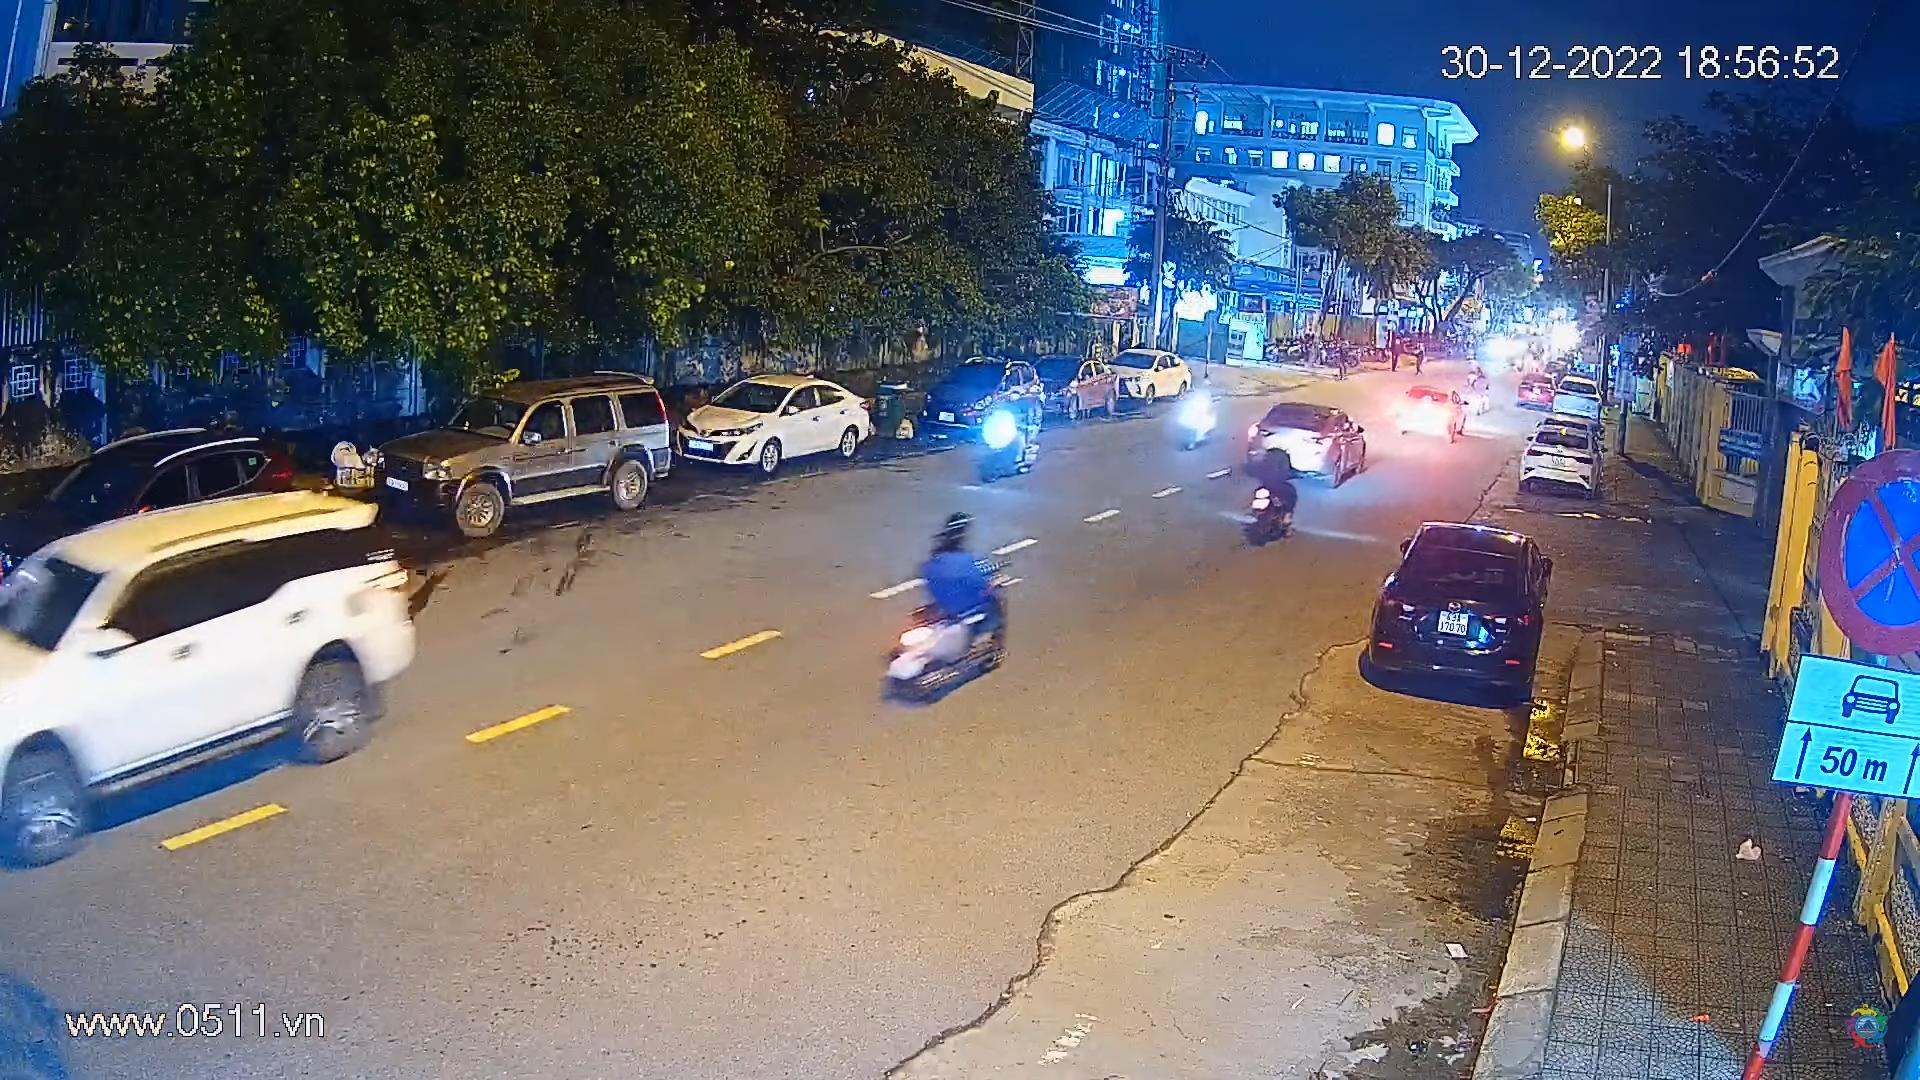car: (0, 475, 415, 878), (0, 427, 298, 603), (372, 375, 675, 546), (1358, 508, 1577, 694), (670, 369, 876, 479), (922, 357, 1046, 444), (1247, 398, 1369, 476), (1513, 418, 1600, 495), (1027, 353, 1118, 423), (1109, 342, 1196, 405), (1394, 382, 1469, 440), (1552, 371, 1602, 425), (1519, 365, 1553, 417), (1469, 352, 1491, 419)
motorcycle: (881, 502, 1025, 700), (967, 384, 1060, 487), (1228, 452, 1312, 553)
